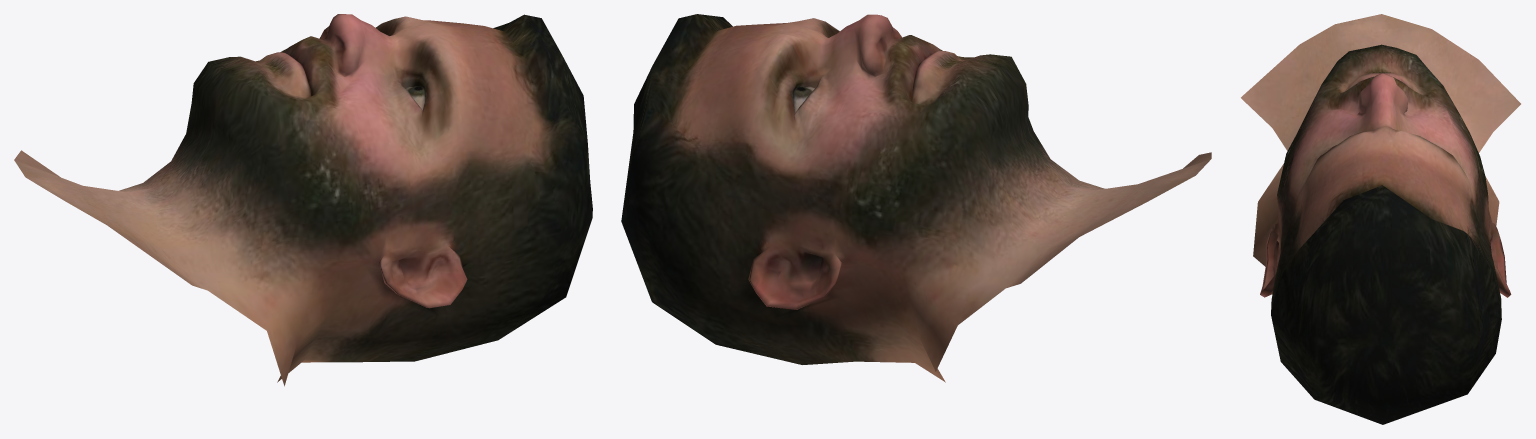
Rendered from head_russian_winter_dan.glb.
The picture shows the model from 3 angles, left to right: view 1: azimuth 30°, elevation 25°; view 2: azimuth 150°, elevation 25°; view 3: azimuth 270°, elevation 25°; orthographic projection. The views are drawn at different scales.
Bounding box in the file's own units: 15.32 × 9.85 × 8.03.
1 material, 1 textured.
